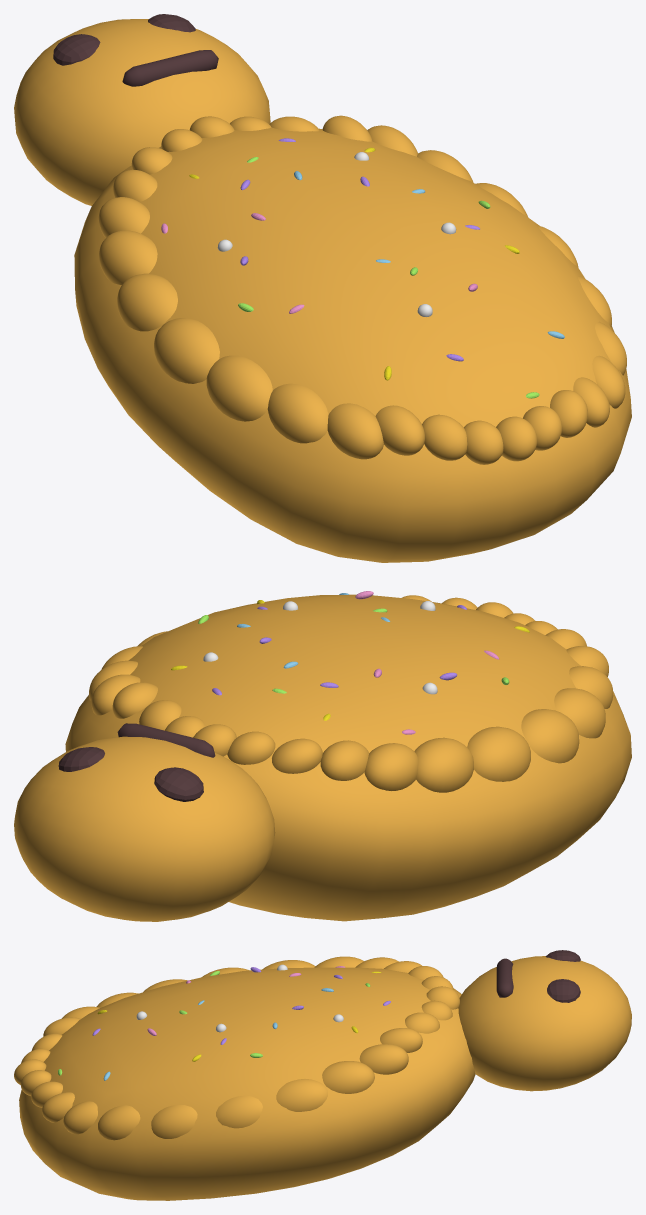
Rendered from bread.fbx.
The picture shows the model from 3 angles, top to bottom: view 1: azimuth 30°, elevation 25°; view 2: azimuth 150°, elevation 25°; view 3: azimuth 270°, elevation 25°; orthographic projection. The views are drawn at different scales.
Visible parts, largest first — view 1: Roundcube, Roundcube.048; view 2: Roundcube, Roundcube.048; view 3: Roundcube, Roundcube.048.
Part boxes in pixels (x1=…): Roundcube: x1=14, y1=19, x2=631, y2=562; Roundcube.048: x1=53, y1=14, x2=564, y2=398; Roundcube: x1=14, y1=594, x2=631, y2=921; Roundcube.048: x1=58, y1=591, x2=529, y2=801; Roundcube: x1=14, y1=956, x2=631, y2=1200; Roundcube.048: x1=58, y1=950, x2=580, y2=1080.
Bounding box in the file's own units: 157 × 100 × 270.
